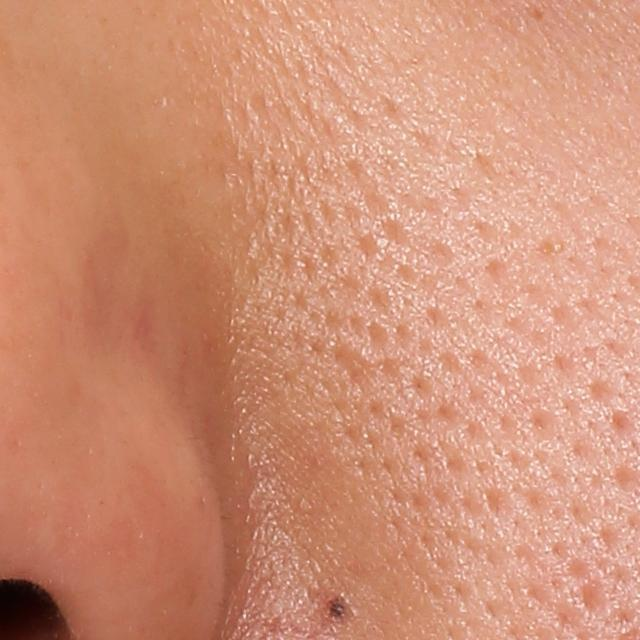atrophic_scar: (332, 347, 377, 395), (578, 581, 612, 625)
nevus: (322, 591, 351, 627)
